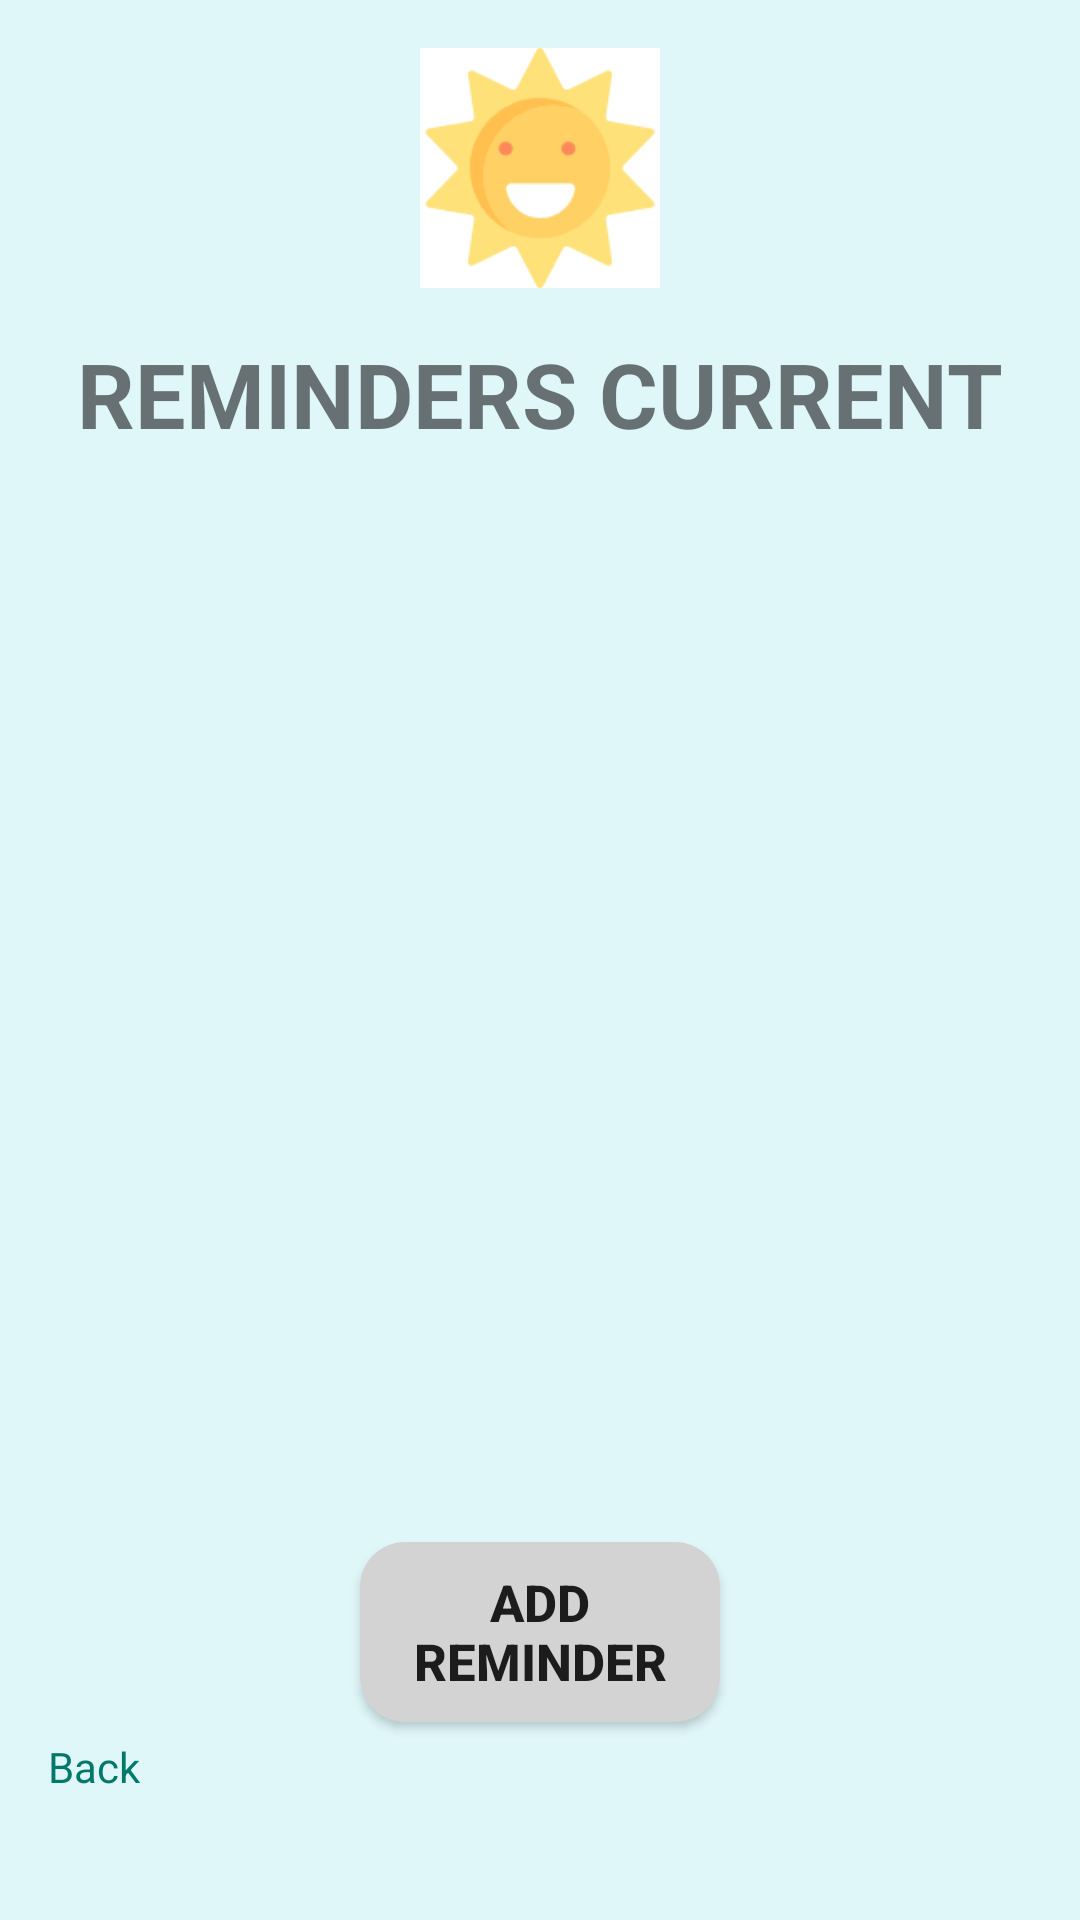

Point at icon controls on the screen. Image size 1080x1920, points as (x=x, y=y).
sun: (x=540, y=168)
